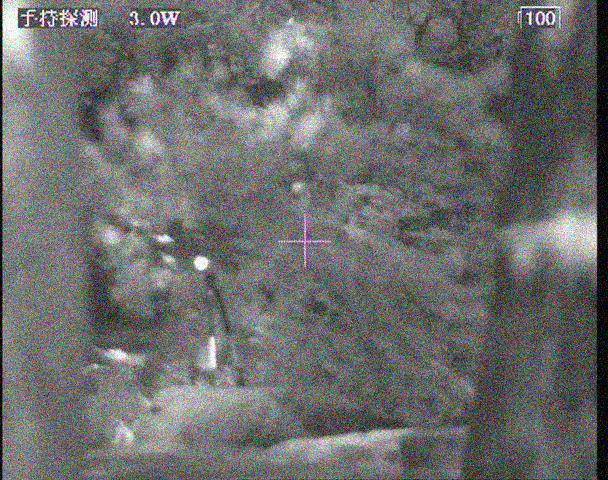my: (193, 255, 210, 272)
